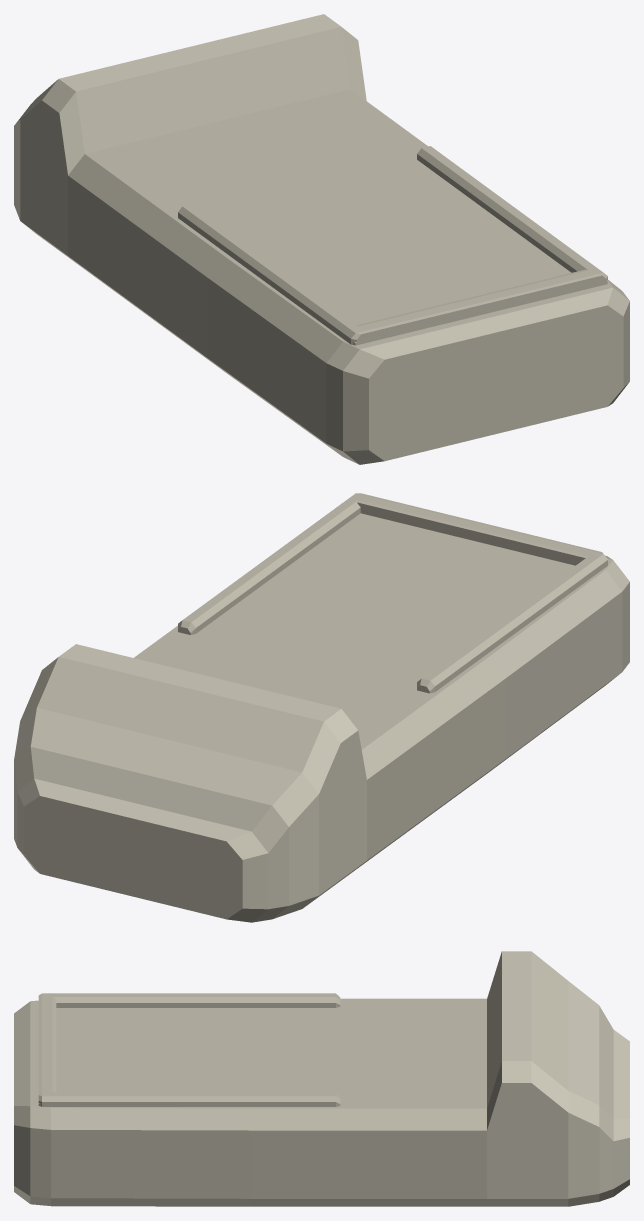
File: durham_transport_a.glb
3 renders of one model, top to bottom at view 1: azimuth 30°, elevation 25°; view 2: azimuth 150°, elevation 25°; view 3: azimuth 270°, elevation 25°, orthographic. The views are drawn at different scales.
Visible parts, largest first — view 1: durham_transport_a; view 2: durham_transport_a; view 3: durham_transport_a.
Boxes of the visible parts, x1=… form: durham_transport_a: x1=14, y1=14, x2=629, y2=464; durham_transport_a: x1=14, y1=493, x2=629, y2=922; durham_transport_a: x1=14, y1=951, x2=629, y2=1206.
Size of the model in its own units: 3.9 by 2.14 by 8.2.
